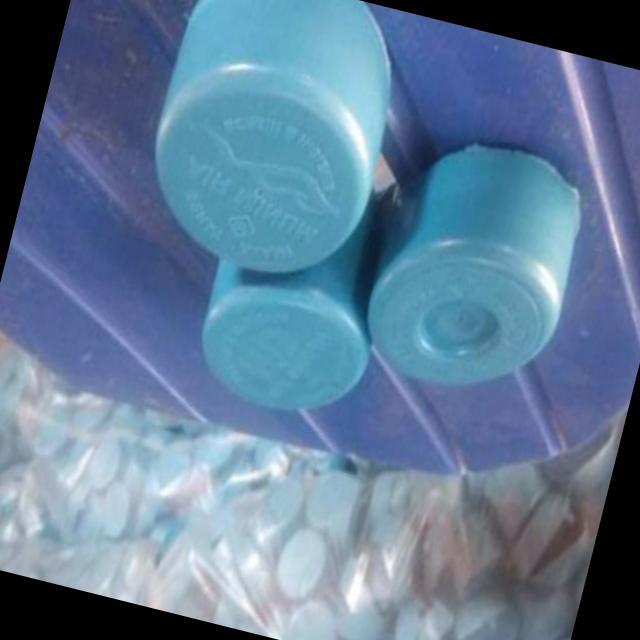TutupGalon: (92, 0, 630, 498)
